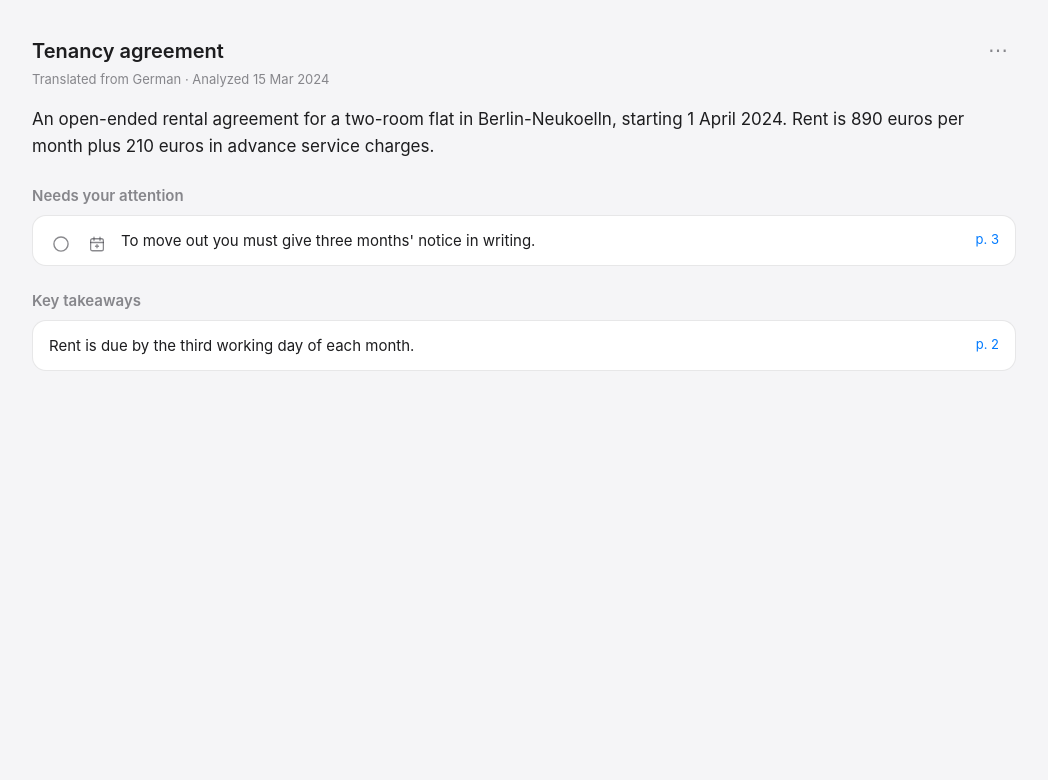
Test: ExtractionPanel › a click outside the open menu closes it without acting
Click the button named "More actions" at (998, 50), box [980, 36, 1016, 64]
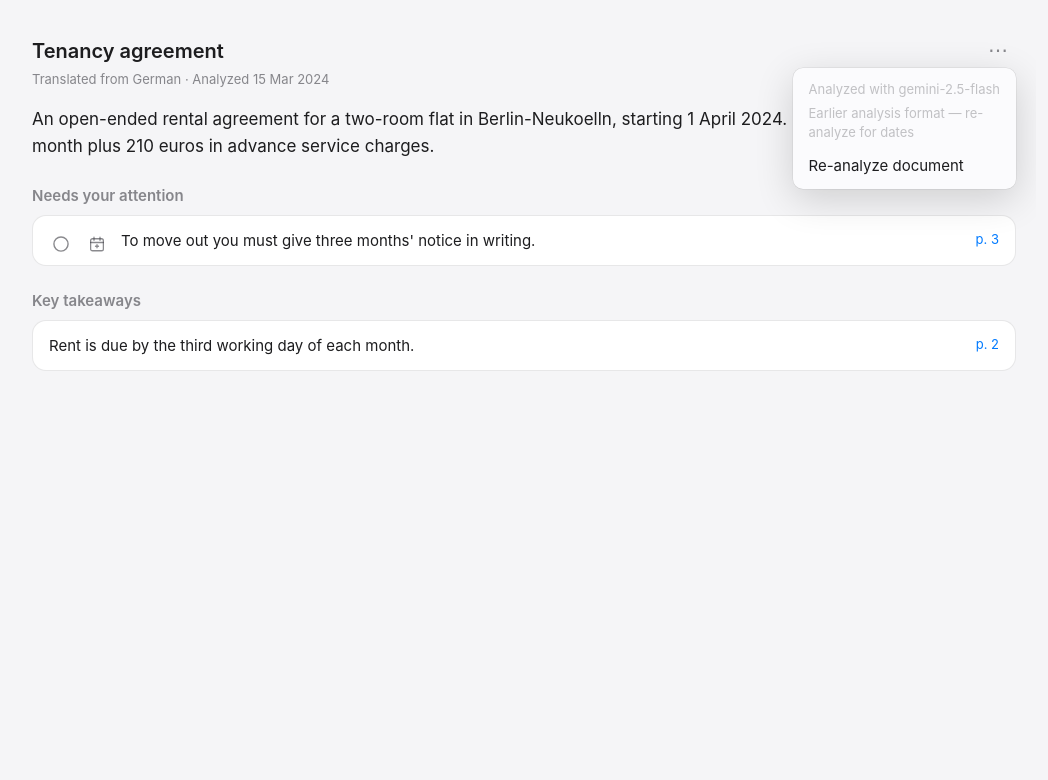
Result: the text "Re-analyze document" is shown at [792, 146, 1016, 185]
Click the button with class "menu-shield" at (524, 396), box [12, 12, 1036, 779]
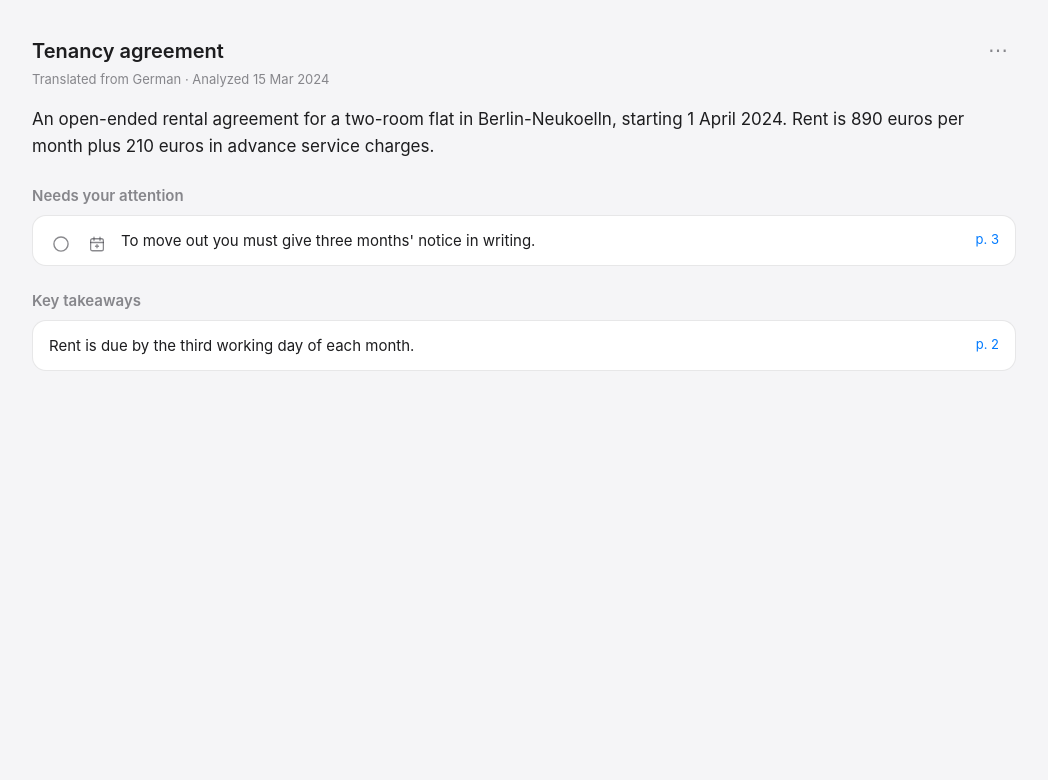
Result: the text "Re-analyze document" is gone
